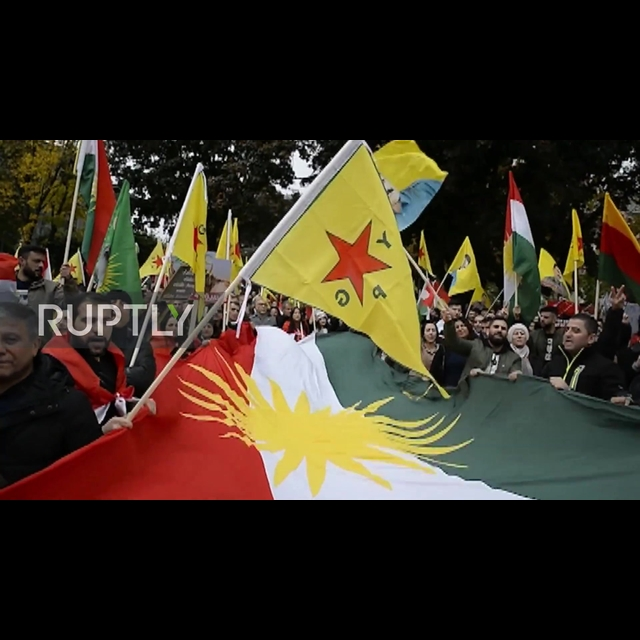IBKY: (185, 356, 481, 499)
